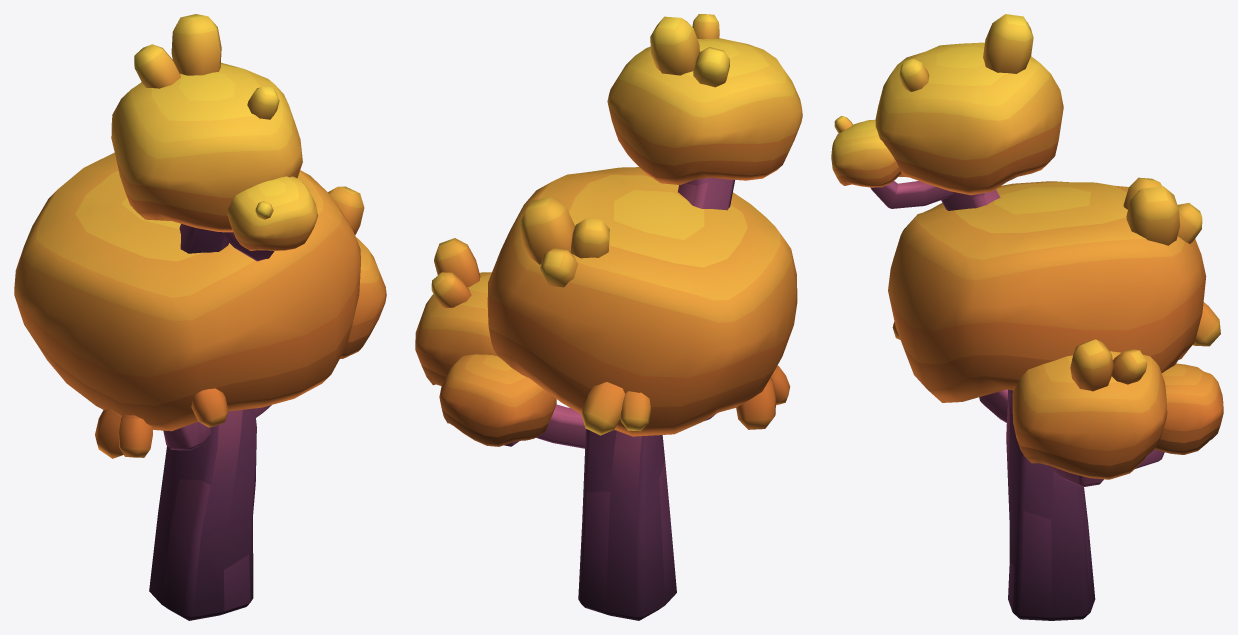
The model's file is birchtree.glb.
3 views of the same model, side by side, from view 1: azimuth 30°, elevation 25°; view 2: azimuth 150°, elevation 25°; view 3: azimuth 270°, elevation 25° (orthographic). The views are drawn at different scales.
Parts seen in each view (by area): view 1: grassland_tree_col2_7; view 2: grassland_tree_col2_7; view 3: grassland_tree_col2_7.
Boxes of the visible parts, bbox=[...] form: grassland_tree_col2_7: bbox=[14, 14, 386, 620]; grassland_tree_col2_7: bbox=[415, 14, 802, 620]; grassland_tree_col2_7: bbox=[831, 14, 1223, 620].
Size of what is drawn, in the model's own units: 7.01 by 11.82 by 7.29.
Materials: 1 (1 with a texture image).
